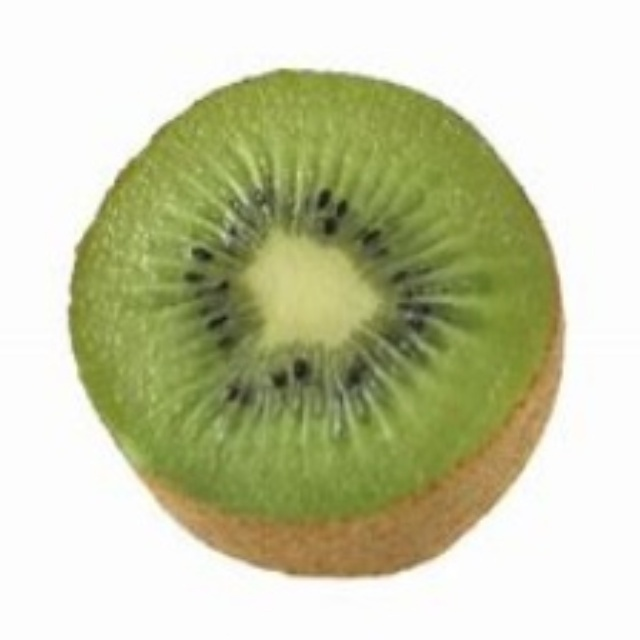kiwi: (67, 67, 566, 580)
